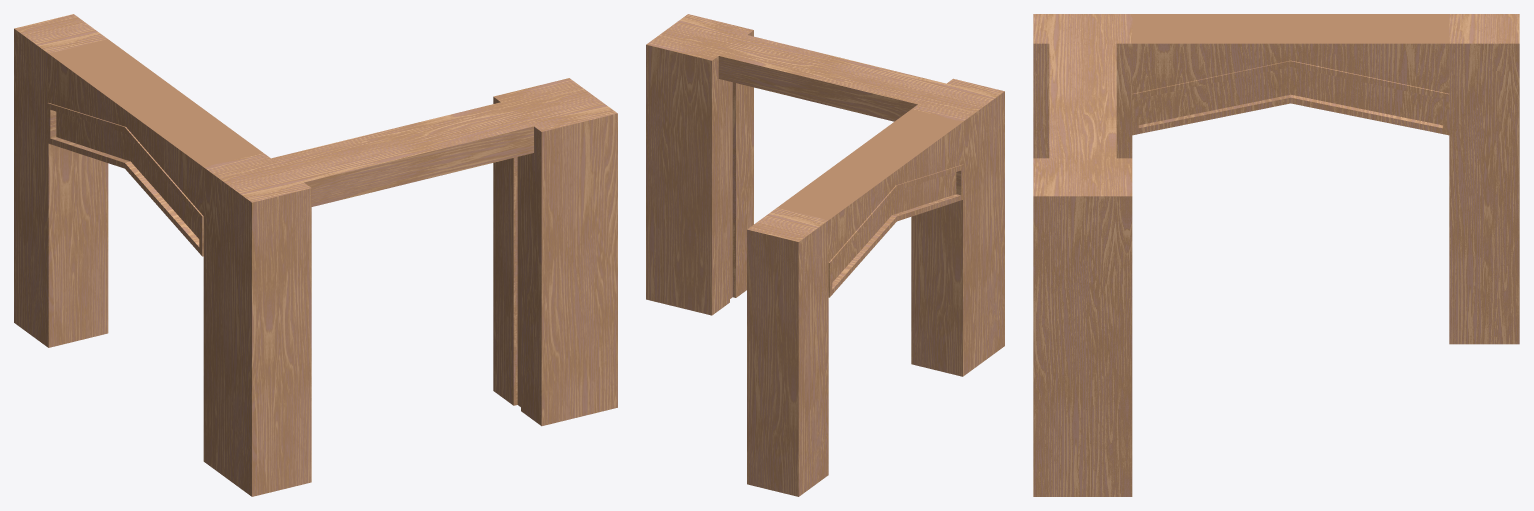
File: 화장실.fbx
3 views of the same model, side by side, from view 1: azimuth 30°, elevation 25°; view 2: azimuth 150°, elevation 25°; view 3: azimuth 270°, elevation 25° (orthographic). The views are drawn at different scales.
Visible parts, largest first — view 1: Cube.059; view 2: Cube.059; view 3: Cube.059.
Boxes of the visible parts, x1,y1,x2,y2 form: Cube.059: (14,14,617,496); Cube.059: (646,14,1004,496); Cube.059: (1033,14,1519,496).
Size of the model in its own units: 684 by 524 by 768.
